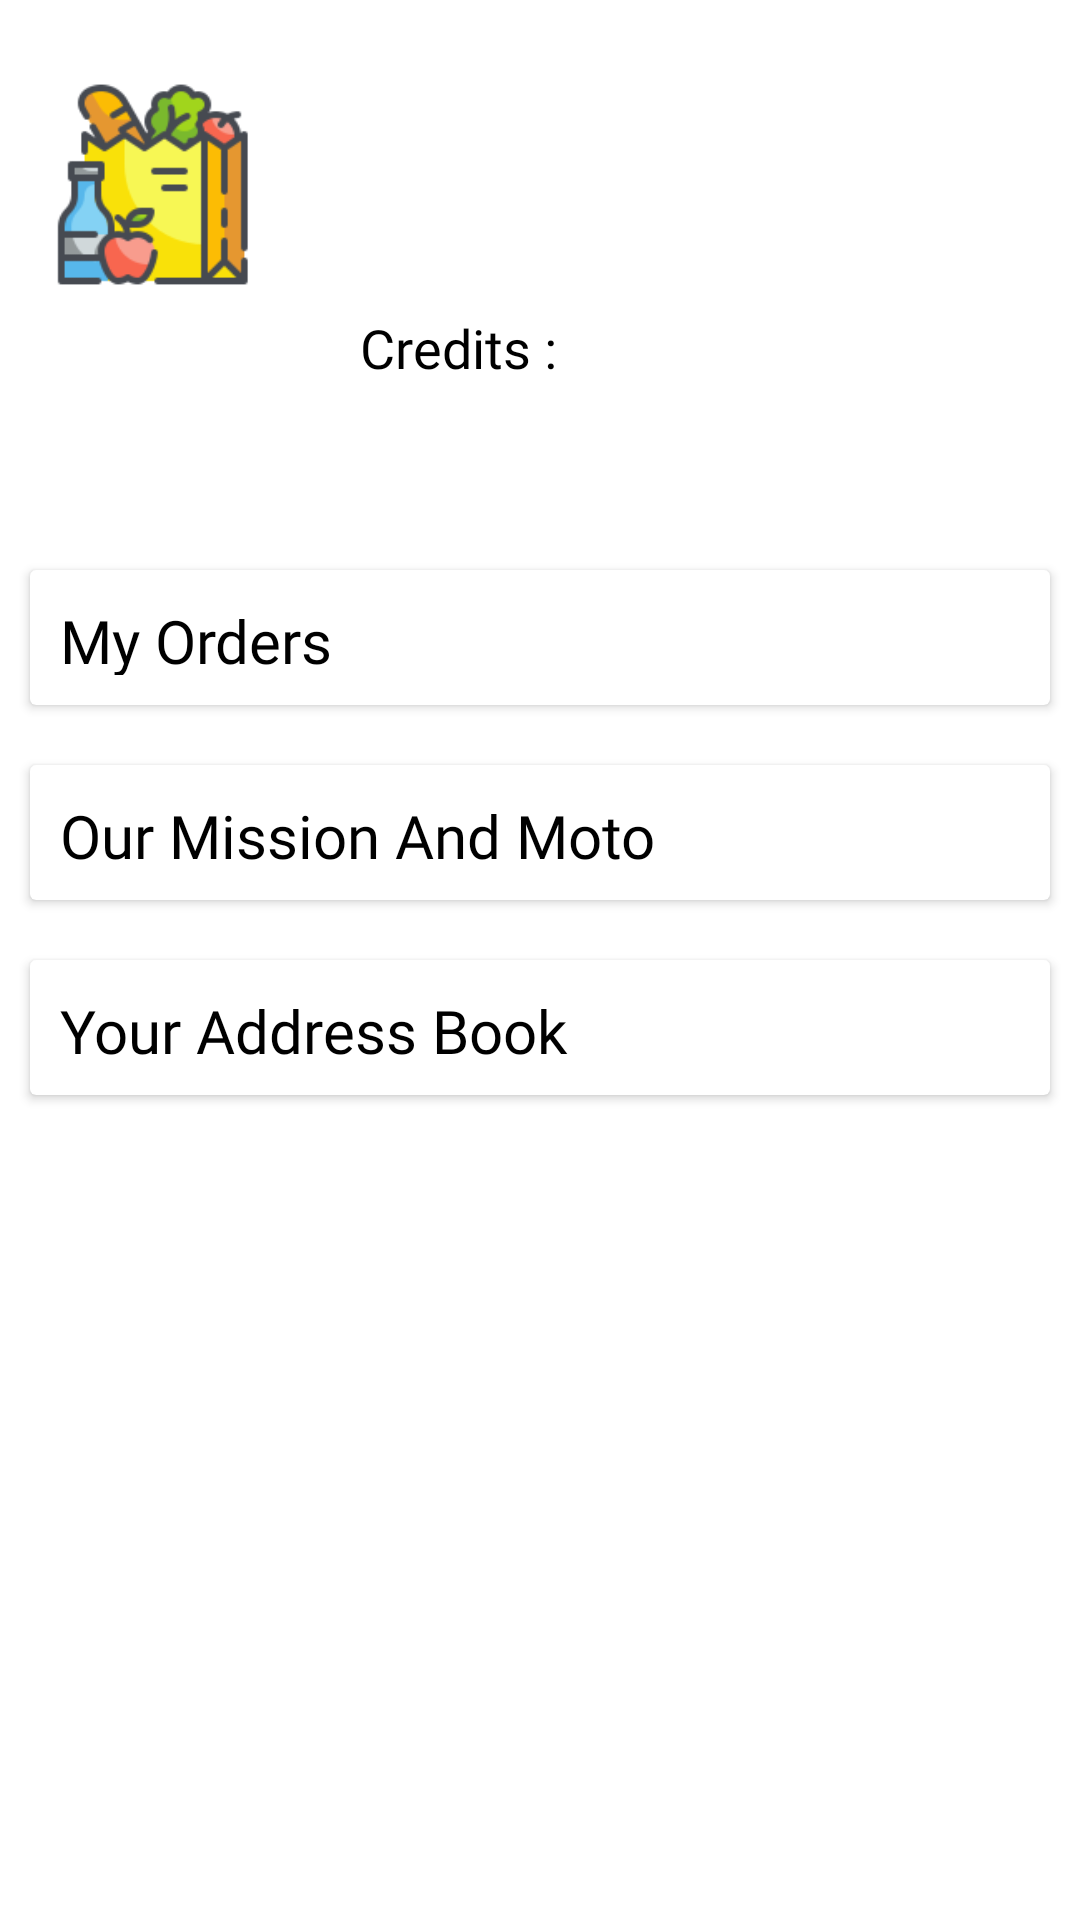

Where to tap for icons on this 1080×1920 app screen, as point (x, y):
grocery: point (152, 184)
